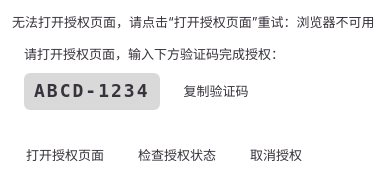
Test: connection and authorization in place › does not claim the device authorization page opened when the browser fails
The width and height of the screenshot is (390, 188).
Expected: the text "已在浏览器打开授权页" is not shown
Expected: the text with test id "connector-user-code" reads "ABCD-1234", [34,80,150,101]
Click the button "打开授权页面". click: click(65, 155)
box: [12,139,118,171]
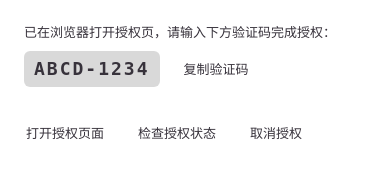
Expected: the text "已在浏览器打开授权页" is shown, [24,24,336,40]
Expected: the text "无法打开授权页面" is gone
